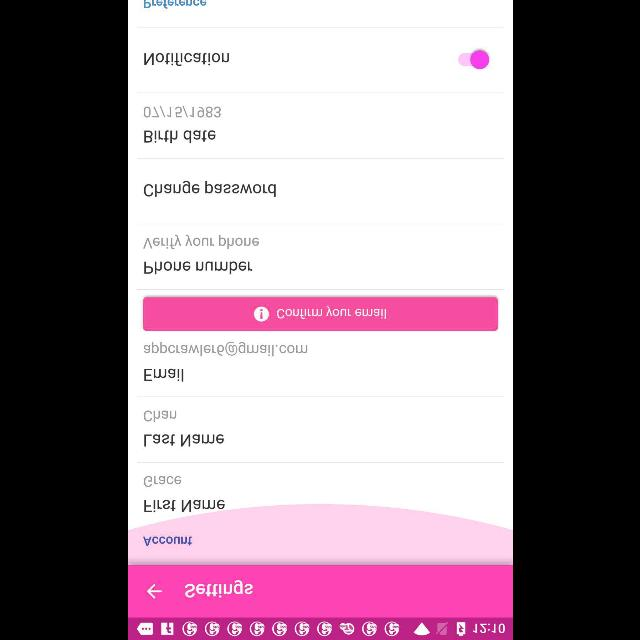icon: (146, 583, 162, 599)
switch: (457, 50, 489, 70)
text: (143, 180, 275, 198), (142, 342, 308, 356), (142, 234, 258, 250), (144, 261, 252, 275), (184, 580, 252, 598), (144, 52, 228, 66), (143, 130, 215, 144), (144, 105, 220, 118), (143, 500, 224, 512), (143, 434, 223, 446), (142, 0, 205, 10), (144, 368, 182, 382), (142, 536, 192, 546), (143, 475, 181, 487), (142, 410, 176, 422)
textbutton: (142, 297, 498, 331)
toolbar: (128, 565, 512, 617)
uppertaskbar: (128, 617, 512, 639)
